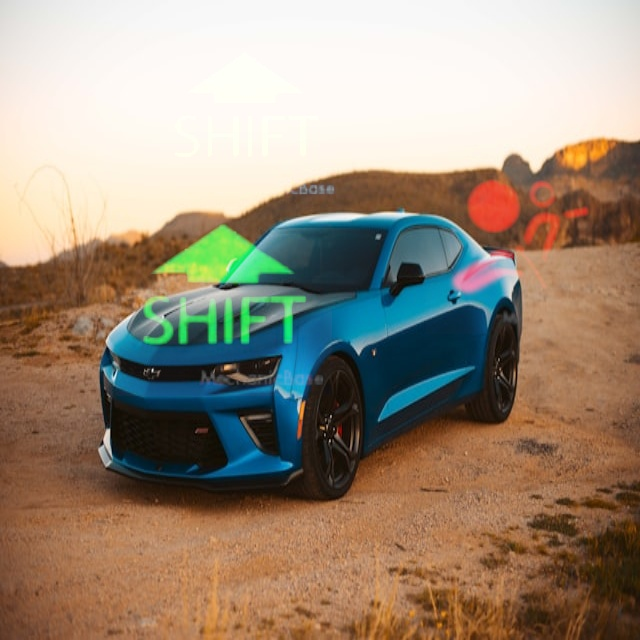symbol: (115, 179, 332, 396), (426, 140, 620, 334), (149, 11, 342, 204)
